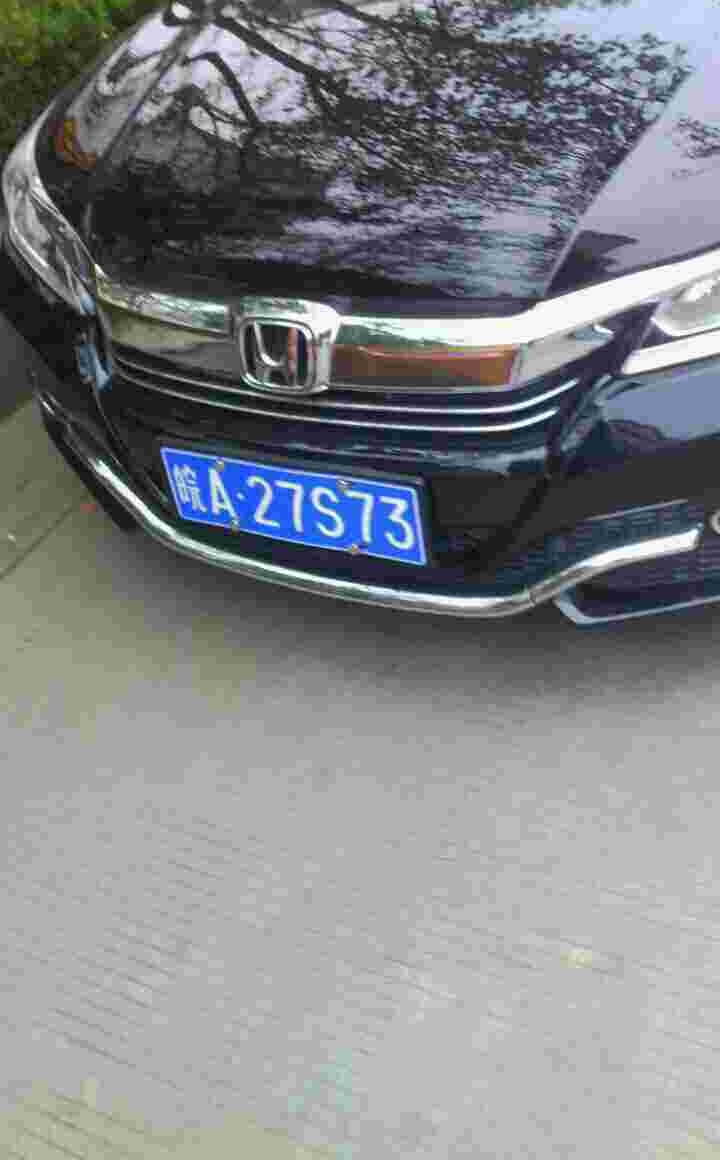license_plate: (173, 448, 432, 571)
